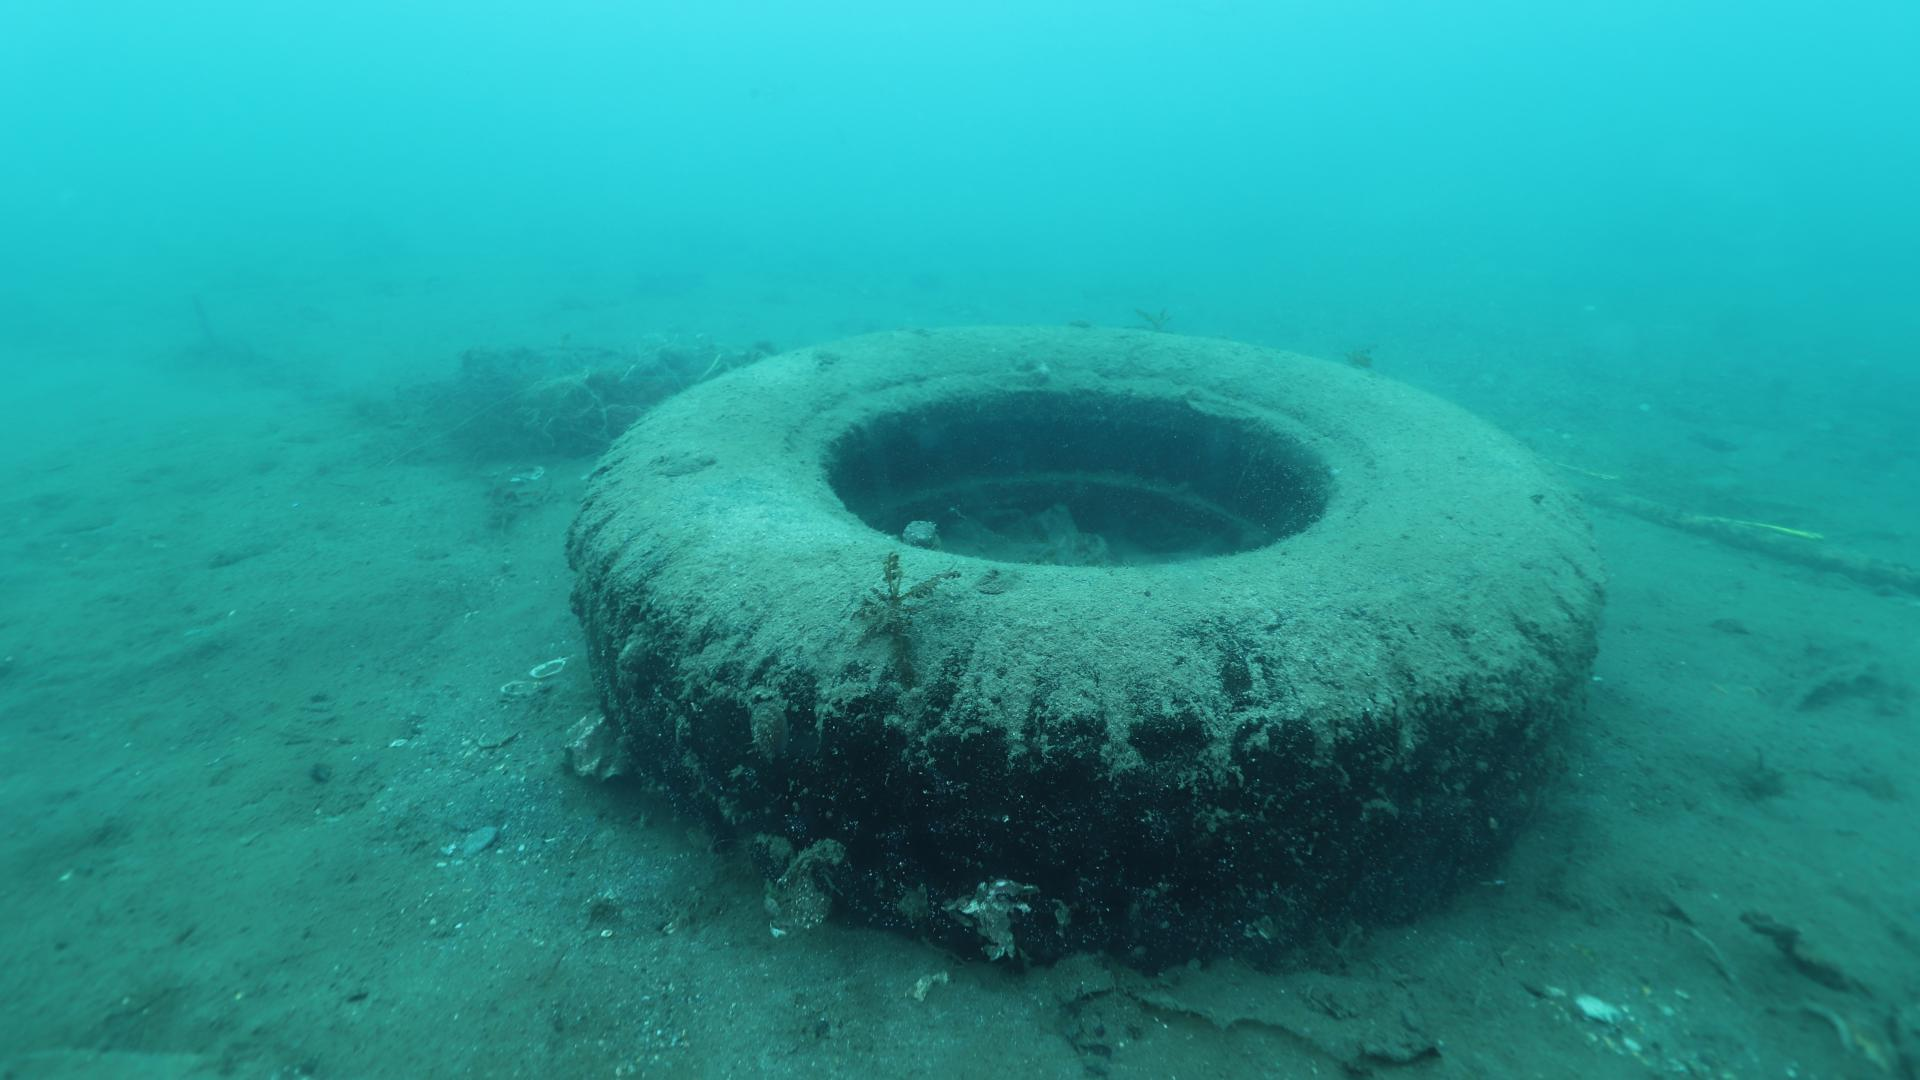tire: (572, 309, 1607, 903)
